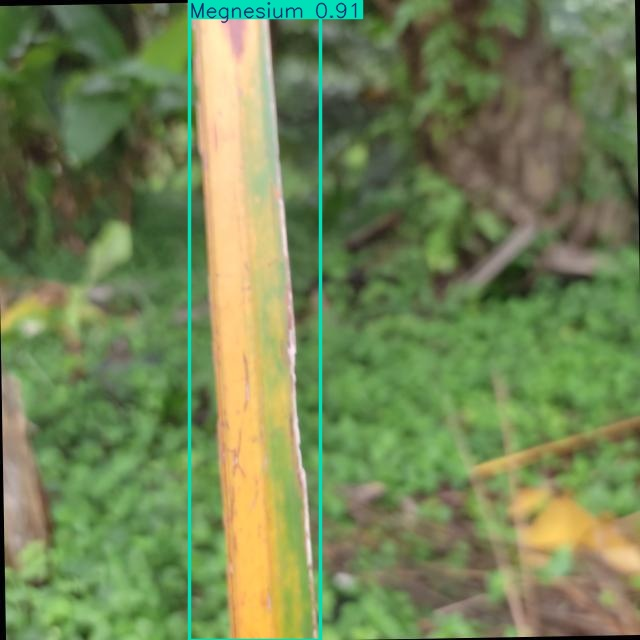Megnesium: (189, 1, 321, 640)
